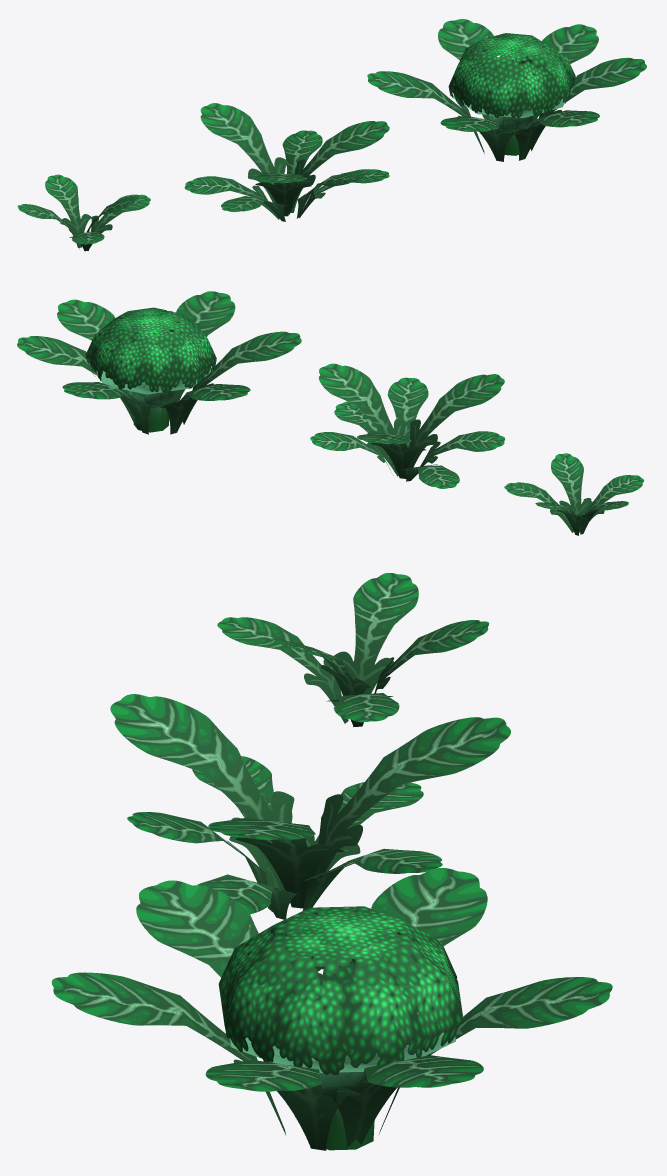
The model's file is Brocolli_Lv.FBX.
3 renders of one model, top to bottom at view 1: azimuth 30°, elevation 25°; view 2: azimuth 150°, elevation 25°; view 3: azimuth 270°, elevation 25°, orthographic. The views are drawn at different scales.
Visible parts, largest first — view 1: Brocolli_Lv3, Brocolli_Lv2, Brocolli_Lv1; view 2: Brocolli_Lv3, Brocolli_Lv2, Brocolli_Lv1; view 3: Brocolli_Lv3, Brocolli_Lv2, Brocolli_Lv1.
Part boxes in pixels (x1,y1,x2,y2): Brocolli_Lv3: [367, 19, 646, 161]; Brocolli_Lv2: [184, 103, 389, 221]; Brocolli_Lv1: [17, 174, 150, 251]; Brocolli_Lv3: [17, 291, 301, 434]; Brocolli_Lv2: [310, 363, 504, 488]; Brocolli_Lv1: [504, 453, 644, 535]; Brocolli_Lv3: [51, 868, 612, 1150]; Brocolli_Lv2: [110, 694, 510, 919]; Brocolli_Lv1: [217, 573, 489, 727].
Bounding box in the file's own units: 237 × 40.71 × 97.99.
